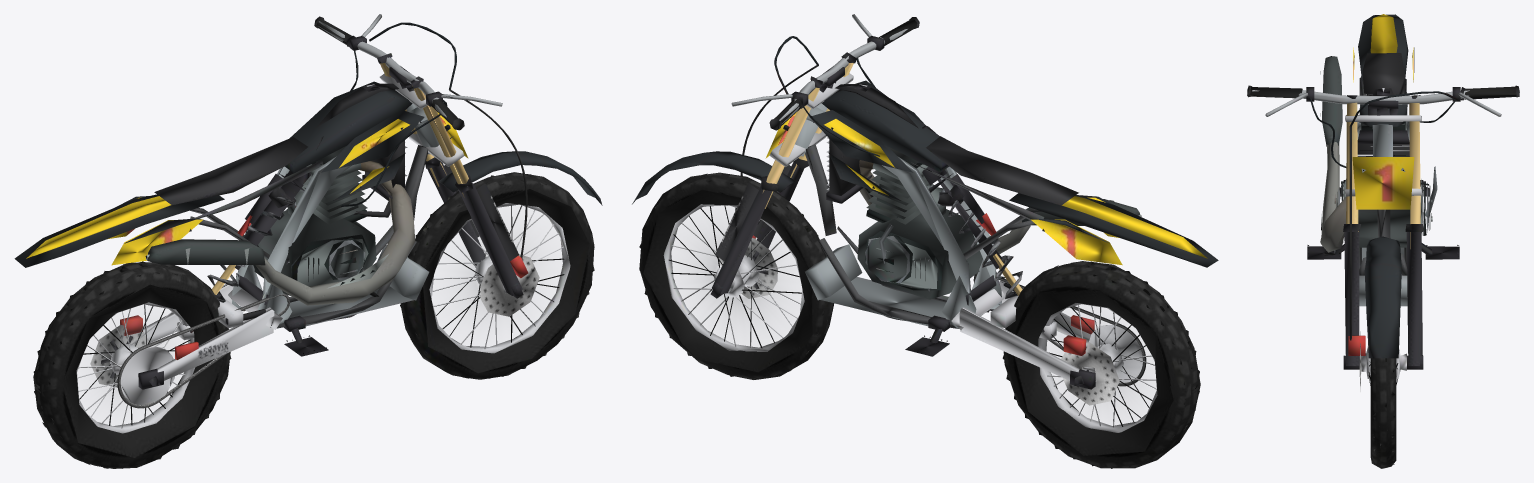
The model's file is bike-pro-lod.glb.
3 renders of one model, left to right at view 1: azimuth 30°, elevation 25°; view 2: azimuth 150°, elevation 25°; view 3: azimuth 270°, elevation 25°, orthographic. The views are drawn at different scales.
Visible parts, largest first — view 1: wheel_rear, bodywork, wheel_front, frame, engine, exhaust, fork_lower, swingarm, handlebar, fork_upper, sprocket_rear, wheel_front_spokes (+7 smaller); view 2: wheel_rear, bodywork, wheel_front, frame, engine, fork_lower, swingarm, handlebar, wheel_front_blur, fork_upper, wheel_front_spokes, shock_body (+7 smaller); view 3: fork_lower, fork_upper, bodywork, handlebar, wheel_front, exhaust, frame, engine, pegs, brake_hose.
Boxes of the visible parts, bbox=[...] form: wheel_rear: bbox=[33, 261, 231, 468]; bodywork: bbox=[14, 81, 424, 267]; wheel_front: bbox=[400, 172, 594, 379]; frame: bbox=[190, 103, 439, 331]; engine: bbox=[253, 136, 378, 296]; exhaust: bbox=[145, 161, 415, 305]; fork_lower: bbox=[425, 151, 602, 298]; swingarm: bbox=[120, 280, 282, 389]; handlebar: bbox=[314, 14, 502, 206]; fork_upper: bbox=[377, 53, 468, 197]; sprocket_rear: bbox=[120, 347, 174, 404]; wheel_front_spokes: bbox=[432, 205, 564, 348]; wheel_rear: bbox=[1002, 261, 1200, 468]; bodywork: bbox=[810, 80, 1218, 267]; wheel_front: bbox=[639, 172, 834, 379]; frame: bbox=[795, 103, 1044, 331]; engine: bbox=[857, 125, 982, 299]; fork_lower: bbox=[632, 151, 808, 298]; swingarm: bbox=[951, 281, 1095, 389]; handlebar: bbox=[731, 14, 923, 236]; wheel_front_blur: bbox=[695, 232, 777, 320]; fork_upper: bbox=[763, 52, 857, 208]; wheel_front_spokes: bbox=[668, 205, 801, 348]; shock_body: bbox=[922, 167, 1004, 269]; fork_lower: bbox=[1343, 224, 1423, 369]; fork_upper: bbox=[1345, 95, 1421, 248]; bodywork: bbox=[1353, 14, 1414, 126]; handlebar: bbox=[1247, 85, 1519, 185]; wheel_front: bbox=[1359, 331, 1406, 468]; exhaust: bbox=[1320, 56, 1346, 252]; frame: bbox=[1357, 76, 1409, 306]; engine: bbox=[1324, 95, 1437, 255]; pegs: bbox=[1307, 243, 1459, 259]; brake_hose: bbox=[1349, 126, 1351, 340].
Size of the model in its own units: 2.06 by 1.2 by 0.8748.
Materials: 4 (4 with a texture image).
